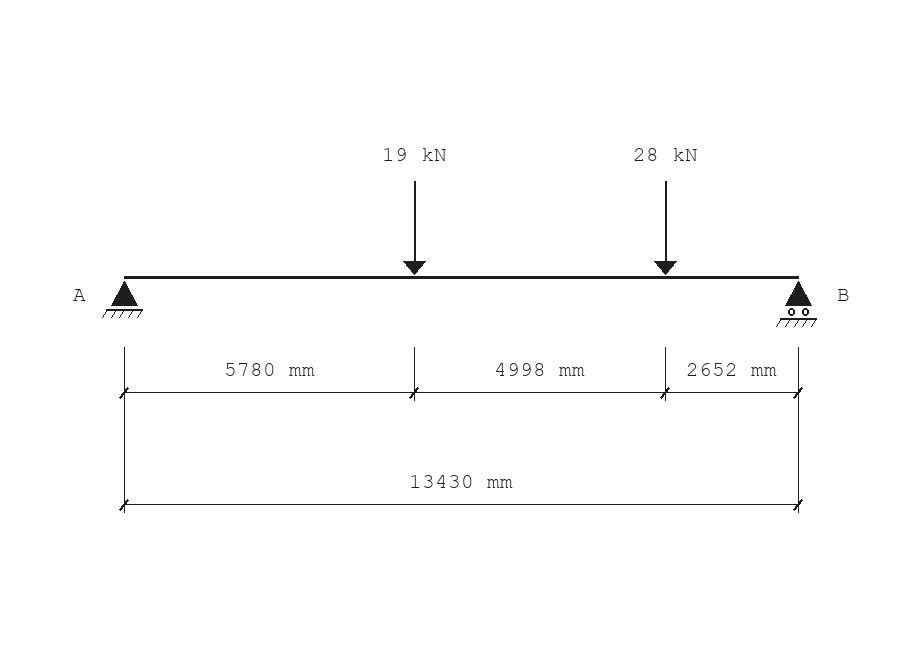pin_support: (102, 281, 143, 318)
point_load: (403, 181, 426, 275), (654, 181, 677, 275)
roller_support: (776, 281, 817, 327)
